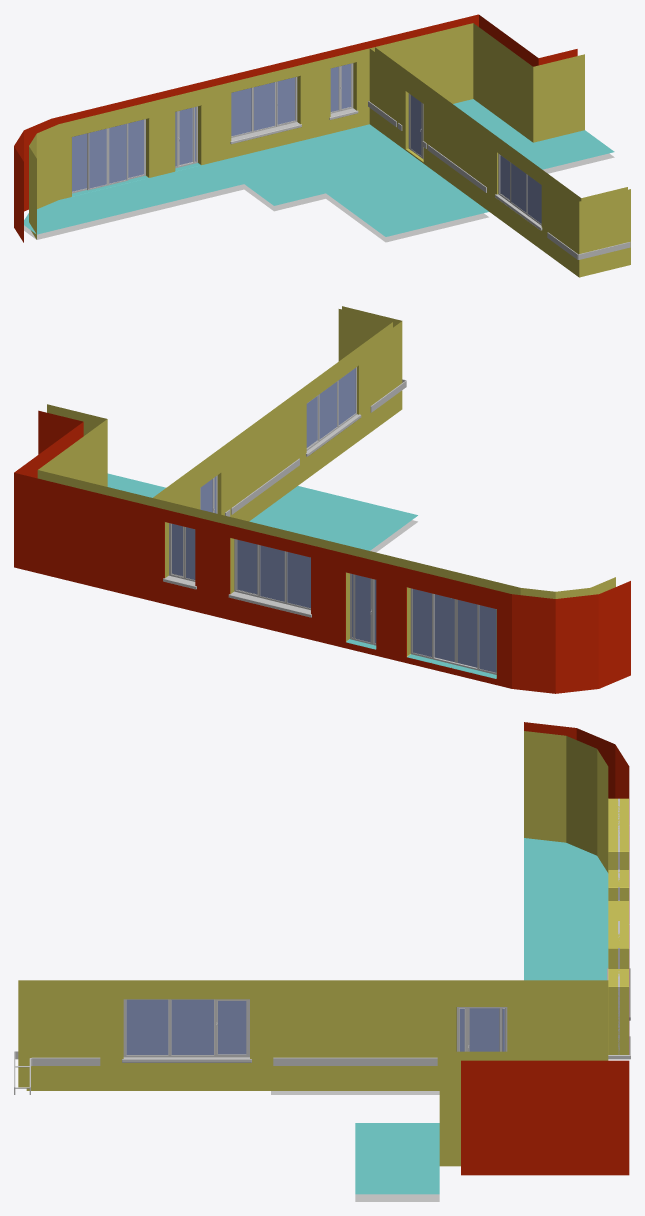
The model's file is walls.fbx.
3 views of the same model, one above another, from view 1: azimuth 30°, elevation 25°; view 2: azimuth 150°, elevation 25°; view 3: azimuth 270°, elevation 25° (orthographic). The views are drawn at different scales.
Parts seen in each view (by area): view 1: wall_angle_c, wall_window_b, wall_door_b, wall_angle_a, floor_b, in_angle, wall_angle_b, wall_door_a, wall_window_a, in_wall_3, floor_c, window_b (+15 smaller); view 2: wall_angle_b, wall_angle_a, wall_window_b, wall_door_b, wall, floor_b, in_wall_3, in_angle, wall_window_a, window_b, wall_door_a, wall_angle_c (+10 smaller); view 3: in_wall_3, wall_angle_c, wall_angle_b, wall_angle_a, in_wall_4, in_angle, in_window, wall_door_b, in_wall_1, in_wall_2, wall_door_a, wall_window_a (+6 smaller).
Boxes of the visible parts, x1,y1,x2,y2 form: wall_angle_c: (483,42,614,173); wall_window_b: (206,55,347,189); wall_door_b: (51,93,191,227); wall_angle_a: (414,14,516,125); floor_b: (326,168,488,242); in_angle: (549,178,630,277); wall_angle_b: (14,119,88,242); wall_door_a: (155,81,243,201); wall_window_a: (310,43,399,158); in_wall_3: (429,91,494,211); floor_c: (244,159,377,211); window_b: (230,77,301,144); wall_angle_b: (512,577,630,693); wall_angle_a: (14,441,97,585); wall_window_b: (210,514,339,644); wall_door_b: (391,558,520,688); wall: (89,484,158,600); floor_b: (249,486,417,552); in_wall_3: (222,396,297,521); in_angle: (338,306,402,434); wall_window_a: (149,499,218,614); window_b: (228,539,311,617); wall_door_a: (331,544,399,659); wall_angle_c: (38,404,165,497); in_wall_3: (271,980,439,1090); wall_angle_c: (355,1051,523,1201); wall_angle_b: (524,722,629,873); wall_angle_a: (524,1051,629,1175); in_wall_4: (102,980,270,1090); in_angle: (18,980,102,1090); in_window: (122,999,251,1062); wall_door_b: (524,798,629,944); in_wall_1: (524,980,608,1051); in_wall_2: (439,980,523,1051); wall_door_a: (524,869,629,980); wall_window_a: (608,969,629,1054).
Bounding box in the file's own units: 20.5 × 3 × 14.64.
